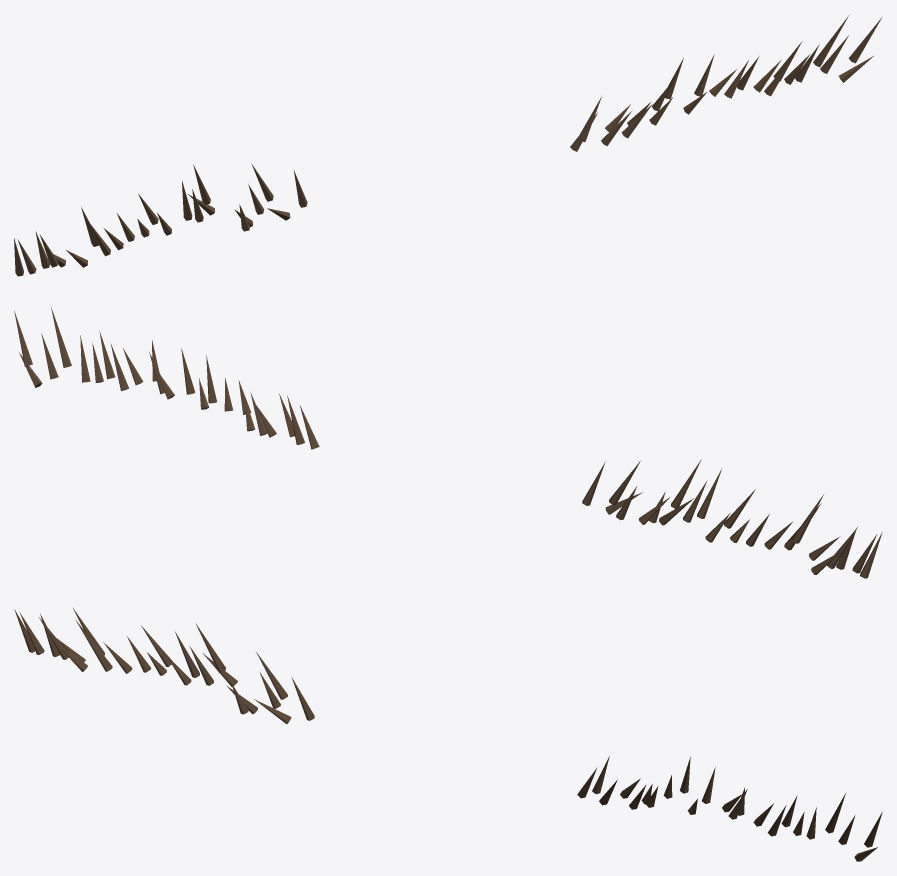
Rendered from soft_arch.glb.
3 renders of one model, top to bottom at view 1: azimuth 30°, elevation 25°; view 2: azimuth 150°, elevation 25°; view 3: azimuth 330°, elevation 25°, orthographic.
Bounding box in the file's own units: 0.1789 × 0.0166 × 0.00756.
